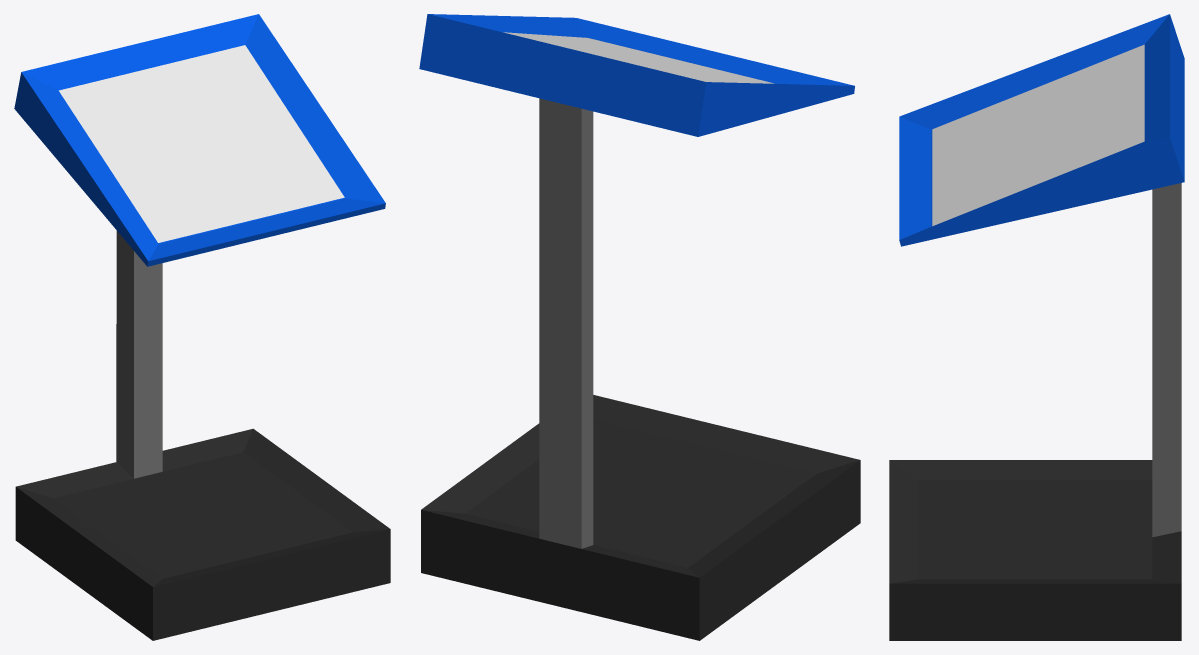
File: Mesin Ceklok.fbx
3 views of the same model, side by side, from view 1: azimuth 30°, elevation 25°; view 2: azimuth 150°, elevation 25°; view 3: azimuth 270°, elevation 25° (orthographic). The views are drawn at different scales.
Parts seen in each view (by area): view 1: Plane, Cube; view 2: Plane, Cube; view 3: Plane, Cube.
Boxes of the visible parts, x1,y1,x2,y2 form: Plane: (15, 231, 390, 640); Cube: (14, 14, 385, 266); Plane: (421, 98, 860, 640); Cube: (419, 14, 854, 136); Plane: (889, 183, 1181, 640); Cube: (899, 14, 1184, 246).
Size of the model in its own units: 200 by 380 by 202.
